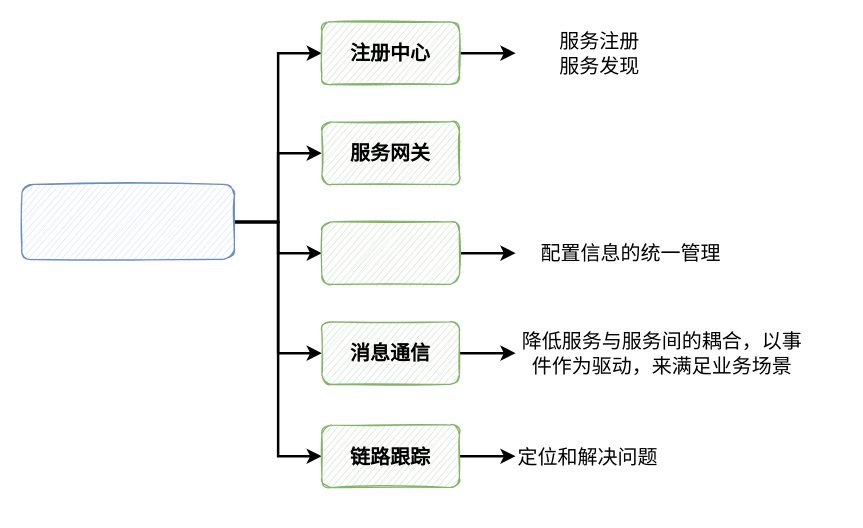
The diagram is 863 pixels wide and 528 high, and some of its shapes have lost their labels. The box of each missing label's shape, as (x1, y1, x2, y2) in pixels:
微服务构建组件: (21, 183, 234, 259)
配置中心: (321, 221, 459, 284)
